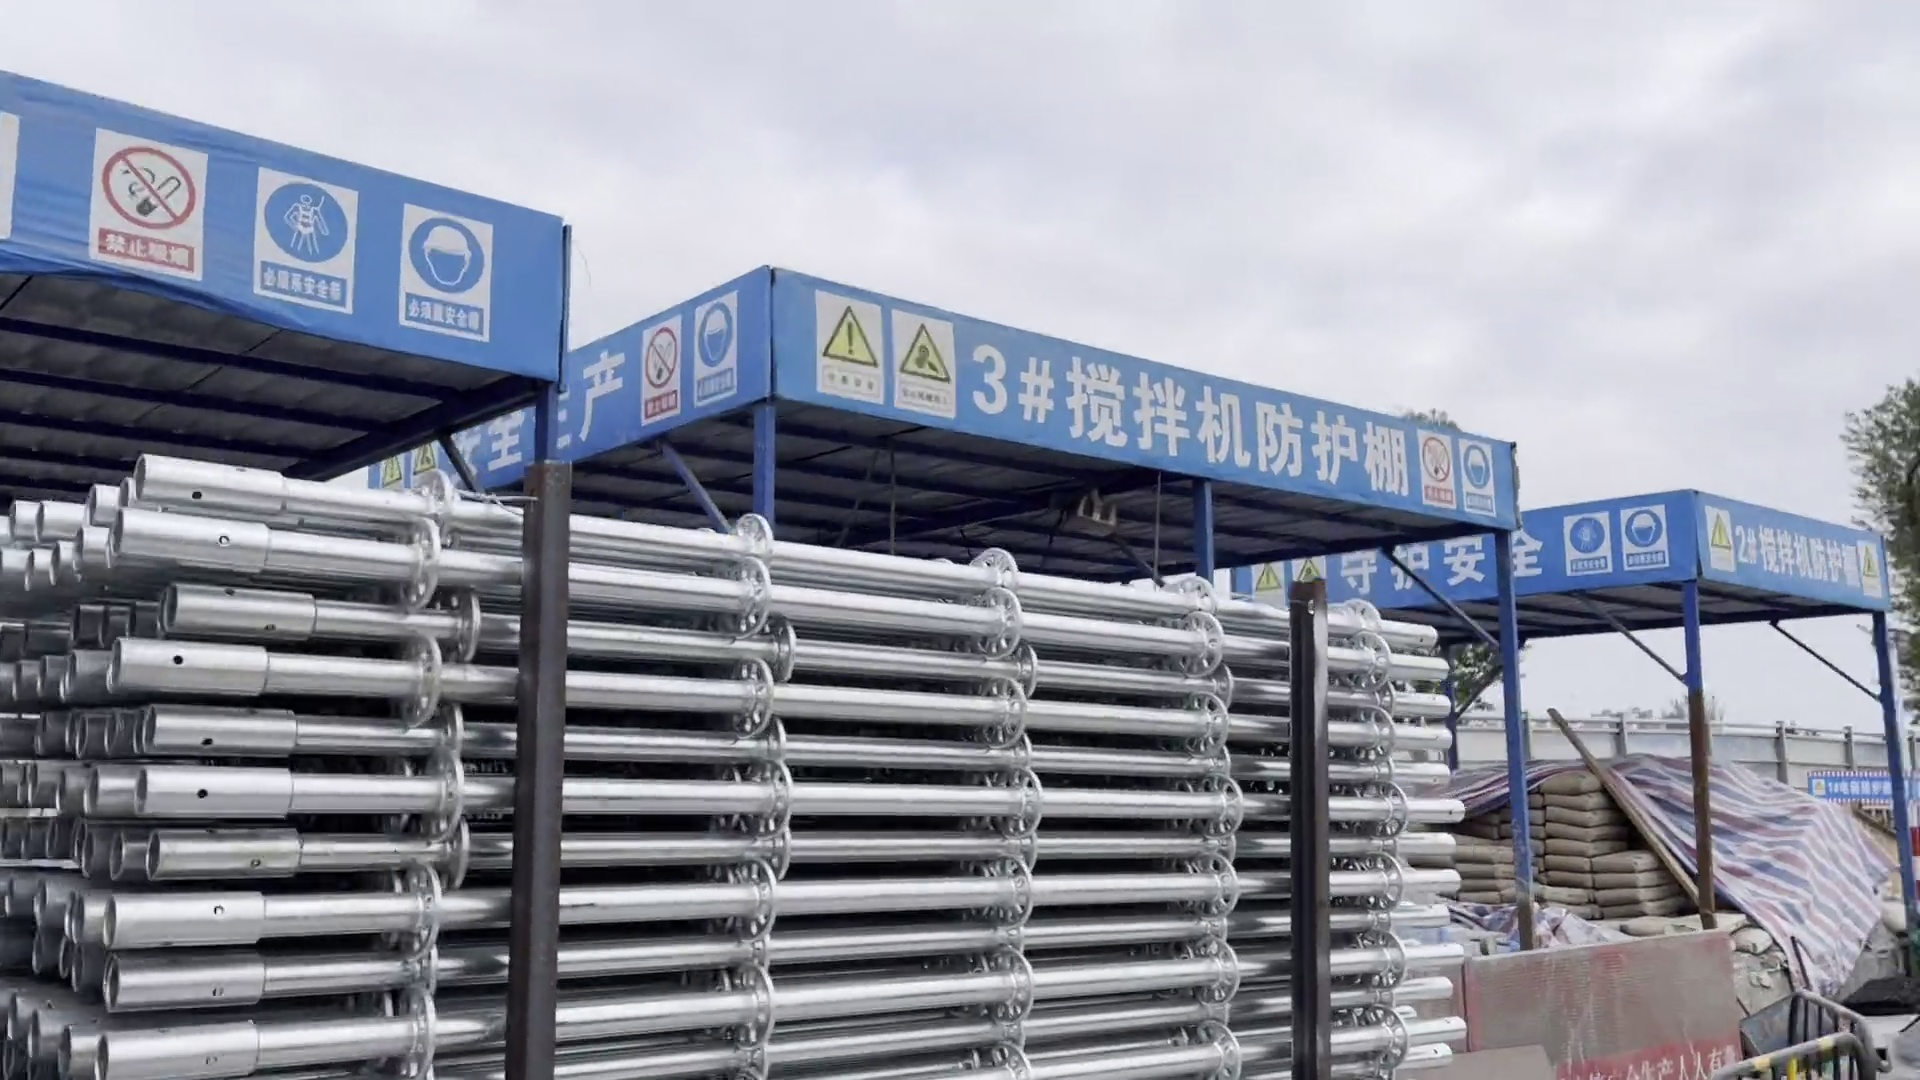scaffold: (7, 462, 1456, 1080)
slogan: (433, 356, 658, 469), (1313, 530, 1542, 593)
